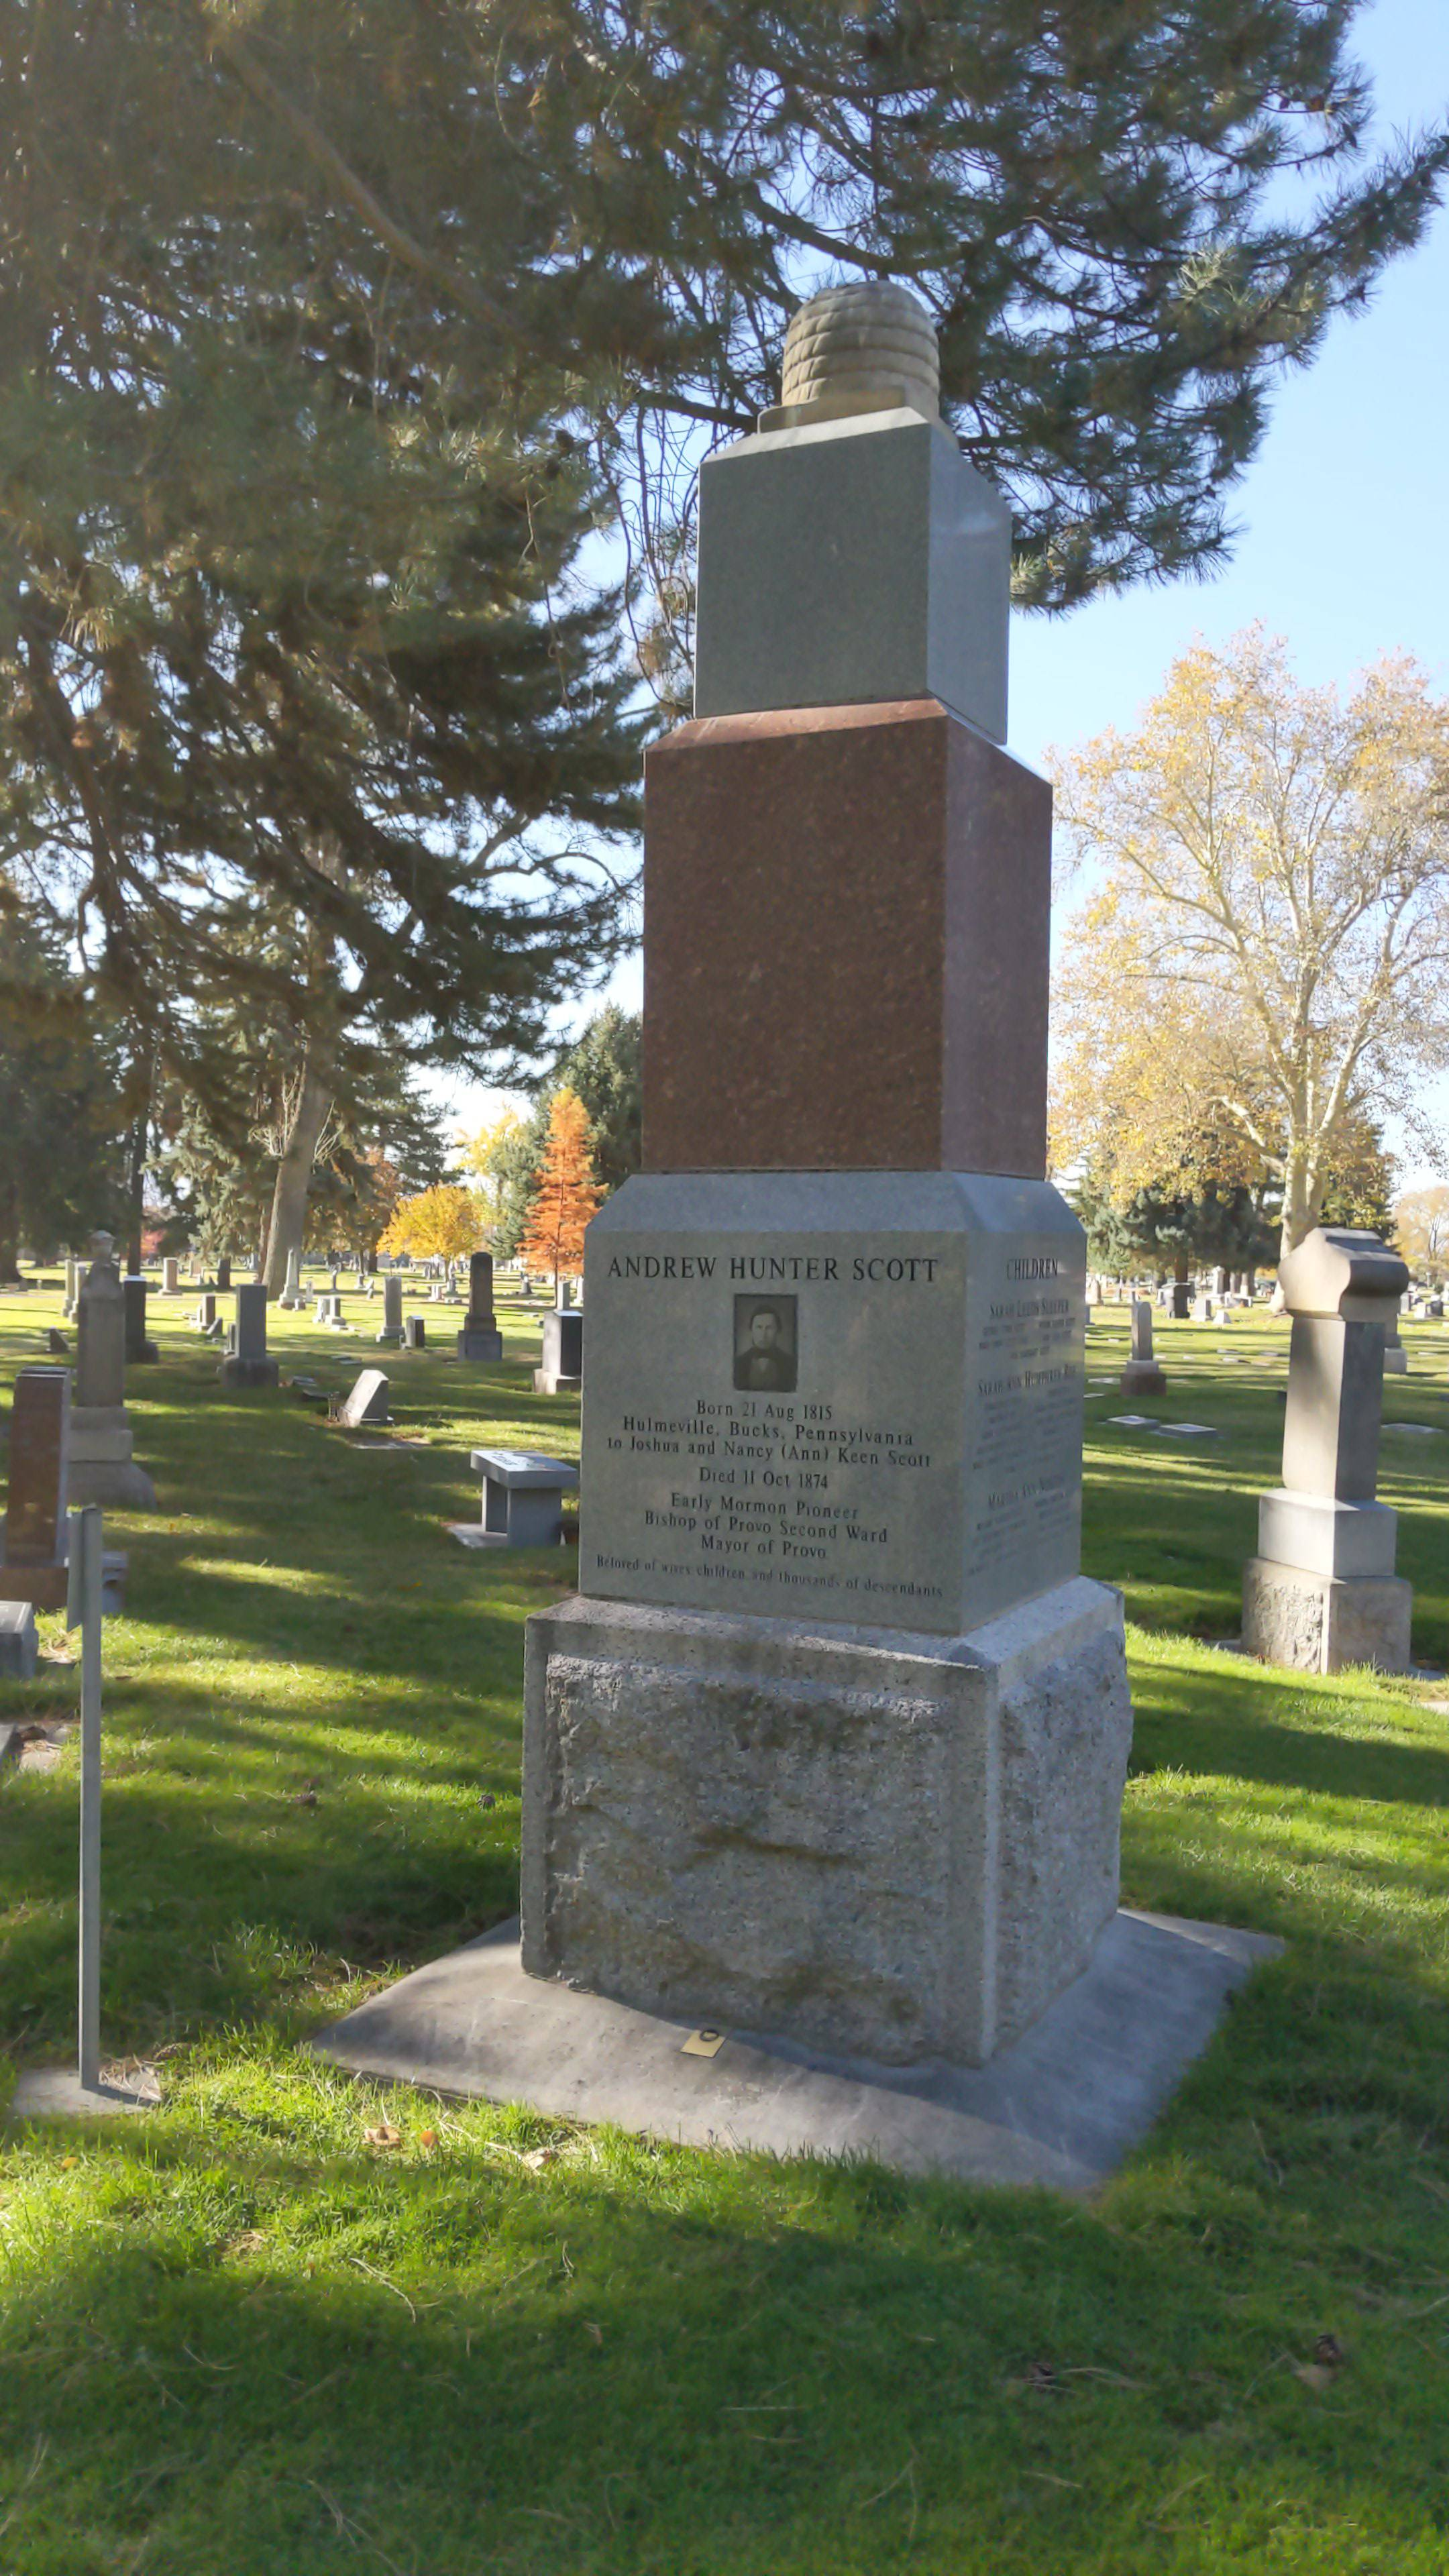obelisk: (529, 292, 1120, 2072)
